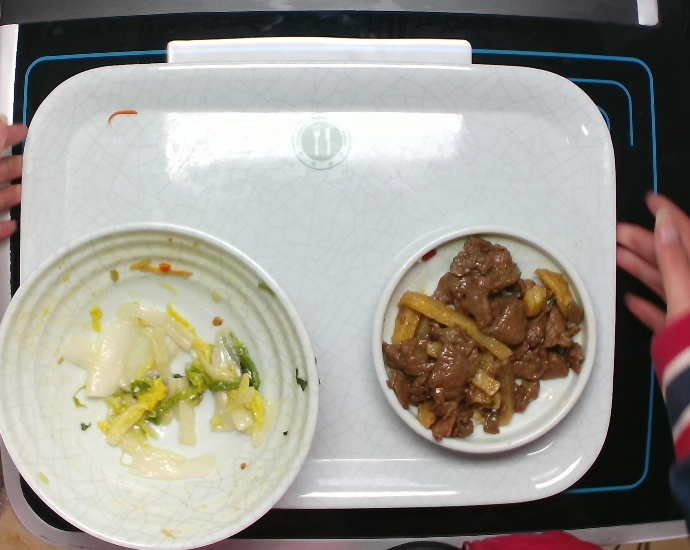JYsf-Da_Tang_Wan: (1, 217, 321, 550)
JYsf-Xiao_Yuan_Pan: (368, 221, 602, 458)
